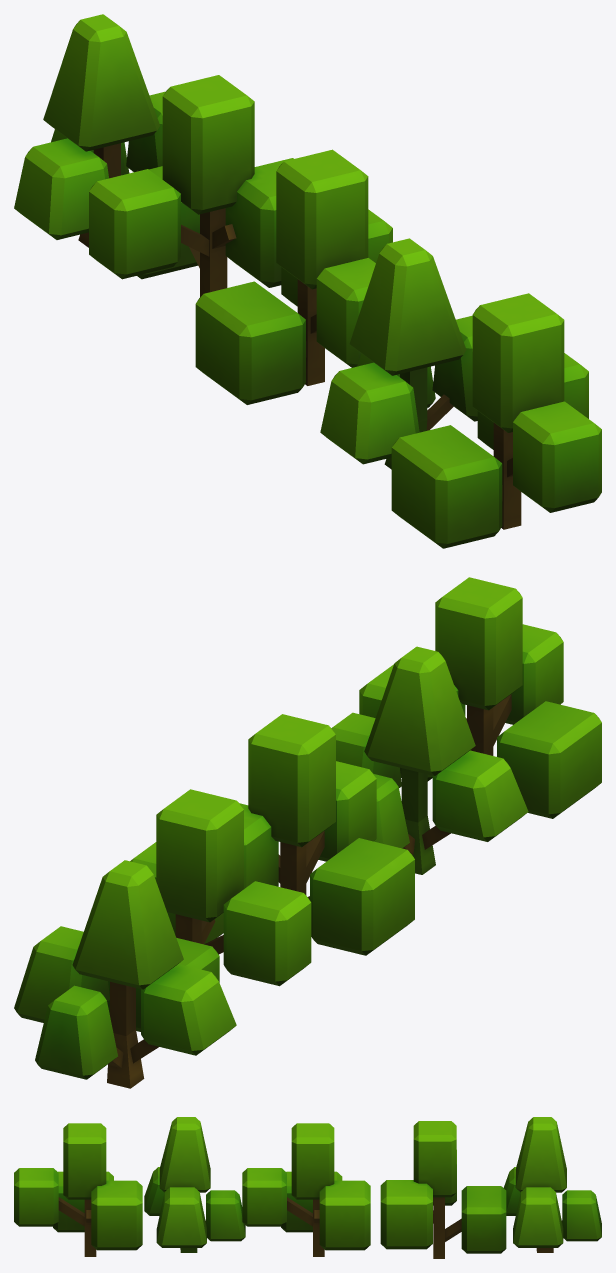
Rendered from forest_one_side.FBX.
3 views of the same model, one above another, from view 1: azimuth 30°, elevation 25°; view 2: azimuth 150°, elevation 25°; view 3: azimuth 270°, elevation 25° (orthographic). The views are drawn at different scales.
Visible parts, largest first — view 1: forest_side; view 2: forest_side; view 3: forest_side.
Boxes of the visible parts, x1,y1,x2,y2 form: forest_side: [14, 14, 601, 548]; forest_side: [14, 577, 601, 1088]; forest_side: [14, 1117, 601, 1258].
Size of the model in its own units: 443 by 480 by 1984.
1 material, 1 textured.
